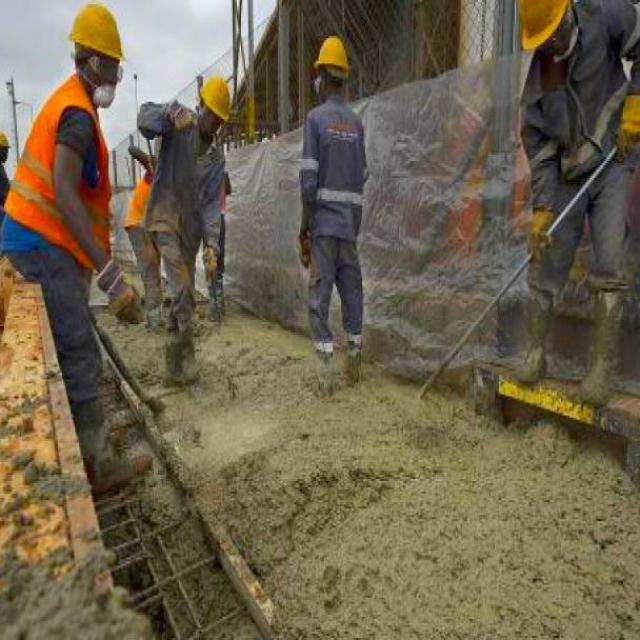helmet: (49, 0, 130, 111), (190, 84, 247, 138), (311, 29, 347, 98)
vest: (14, 68, 106, 256), (297, 98, 371, 256)
